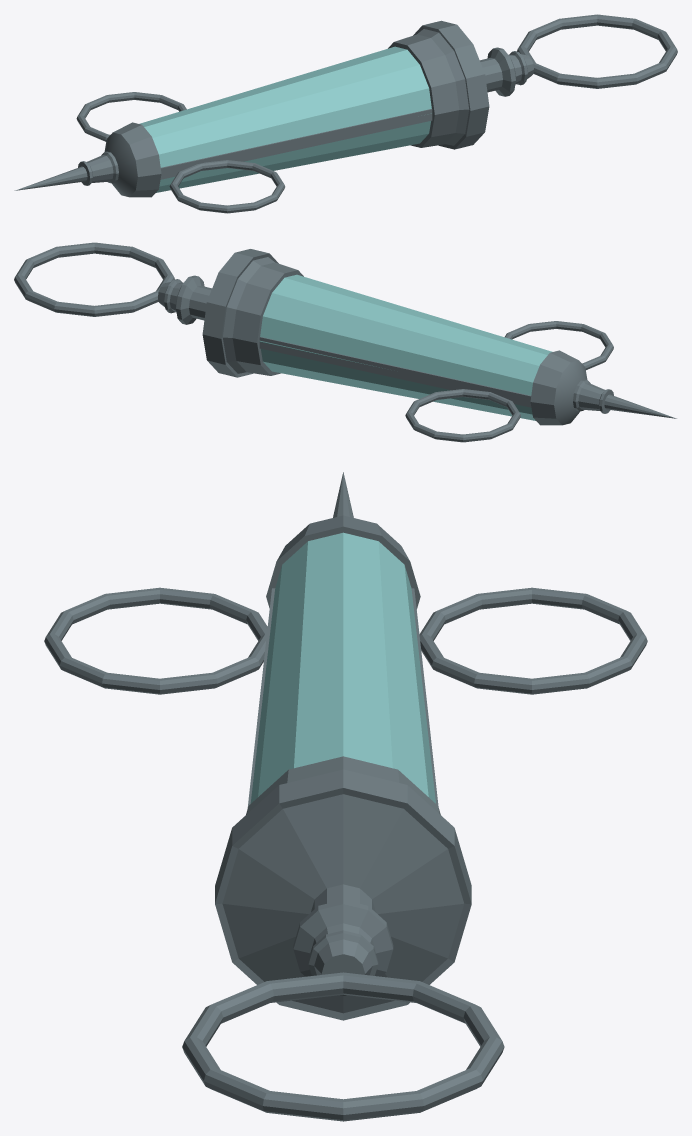
File: Jeringa.fbx
The picture shows the model from 3 angles, top to bottom: view 1: azimuth 30°, elevation 25°; view 2: azimuth 150°, elevation 25°; view 3: azimuth 270°, elevation 25°; orthographic projection. The views are drawn at different scales.
Parts seen in each view (by area): view 1: Cristal, pCylinder2, pTorus1, pCylinder3, pCube1, pTorus2, pTorus3, pCylinder4, pCone1; view 2: Cristal, pCylinder2, pTorus1, pCylinder3, polySurface2, pTorus3, pTorus2, pCylinder4, pCone1; view 3: pCylinder2, Cristal, pTorus1, pTorus3, pTorus2, pCylinder3.
Boxes of the visible parts, x1,y1,x2,y2 form: Cristal: [139, 46, 431, 192]; pCylinder2: [388, 20, 533, 149]; pTorus1: [517, 14, 677, 88]; pCylinder3: [104, 122, 161, 197]; pCube1: [160, 109, 432, 179]; pTorus2: [169, 160, 285, 213]; pTorus3: [76, 92, 186, 141]; pCylinder4: [78, 151, 118, 185]; pCone1: [14, 166, 87, 190]; Cristal: [259, 274, 552, 420]; pCylinder2: [158, 249, 303, 377]; pTorus1: [14, 242, 174, 316]; pCylinder3: [530, 350, 587, 425]; polySurface2: [259, 337, 531, 407]; pTorus3: [405, 389, 520, 442]; pTorus2: [504, 321, 613, 369]; pCylinder4: [573, 379, 613, 413]; pCone1: [604, 394, 676, 418]; pCylinder2: [215, 756, 471, 1020]; Cristal: [250, 532, 435, 803]; pTorus1: [182, 972, 504, 1121]; pTorus3: [419, 587, 647, 694]; pTorus2: [44, 587, 267, 694]; pCylinder3: [266, 515, 420, 609].
Size of the model in its own units: 21.54 by 3.67 by 8.62.
